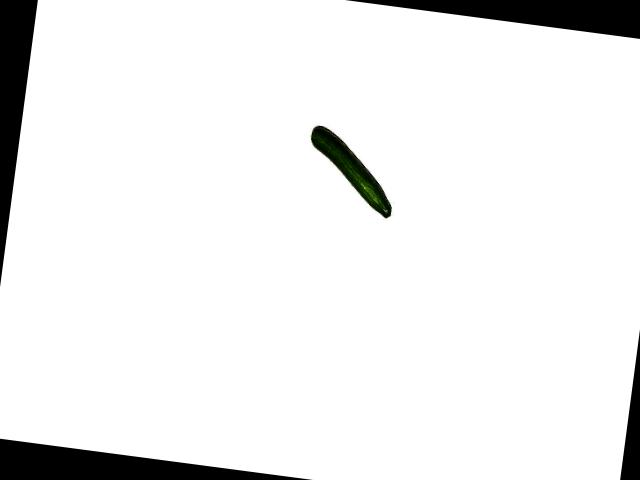cucumber: (301, 124, 401, 218)
